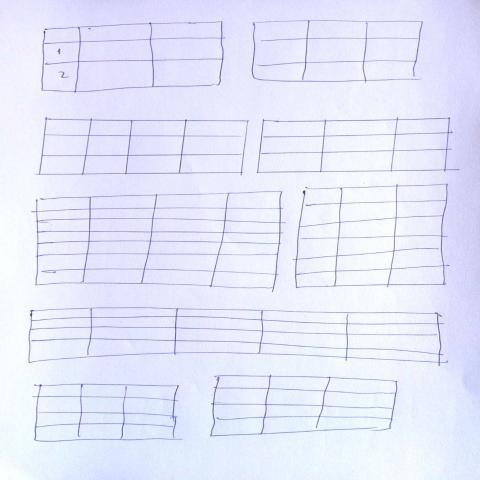Table: (34, 192, 285, 293), (27, 307, 447, 367), (295, 184, 453, 291), (39, 21, 227, 94), (208, 374, 401, 439), (37, 119, 250, 177), (256, 119, 454, 176), (251, 19, 424, 84), (33, 383, 182, 445)
